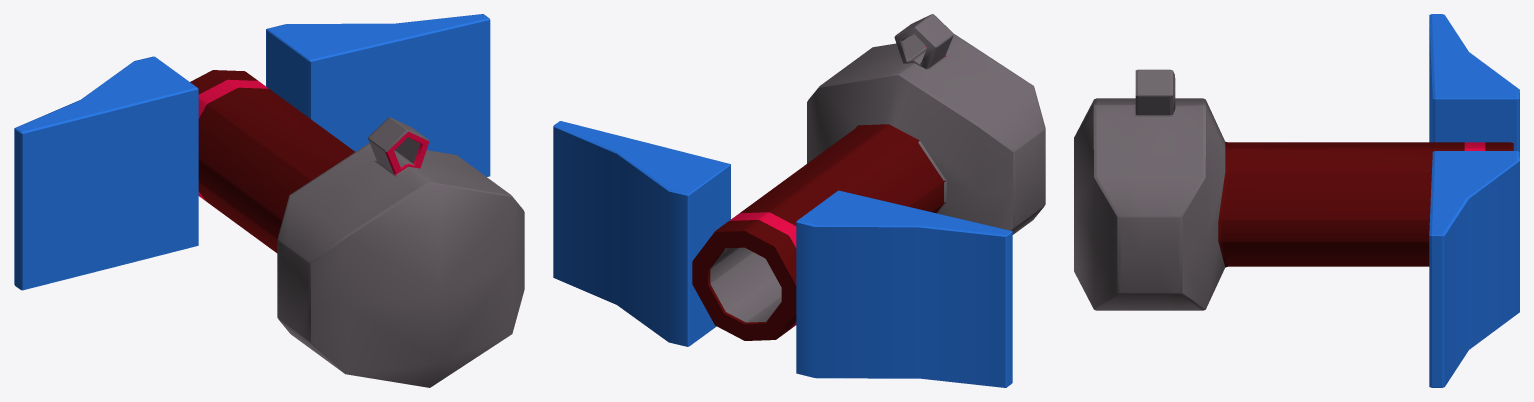
Rendered from Cannon2.fbx.
The picture shows the model from 3 angles, left to right: view 1: azimuth 30°, elevation 25°; view 2: azimuth 150°, elevation 25°; view 3: azimuth 270°, elevation 25°; orthographic projection. The views are drawn at different scales.
Visible parts, largest first — view 1: Cylinder.006, Cylinder.017; view 2: Cylinder.017, Cylinder.006; view 3: Cylinder.006, Cylinder.017.
Boxes of the visible parts, box(x1,y1,x2,y2) form: Cylinder.006: box(190, 70, 524, 387); Cylinder.017: box(14, 14, 490, 290); Cylinder.017: box(553, 121, 1012, 387); Cylinder.006: box(692, 14, 1045, 340); Cylinder.006: box(1074, 69, 1513, 310); Cylinder.017: box(1429, 14, 1519, 387).
Bounding box in the file's own units: 1010 × 497 × 858.
